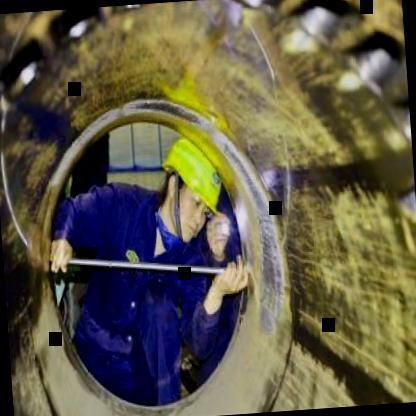helmet: (153, 118, 239, 247)
